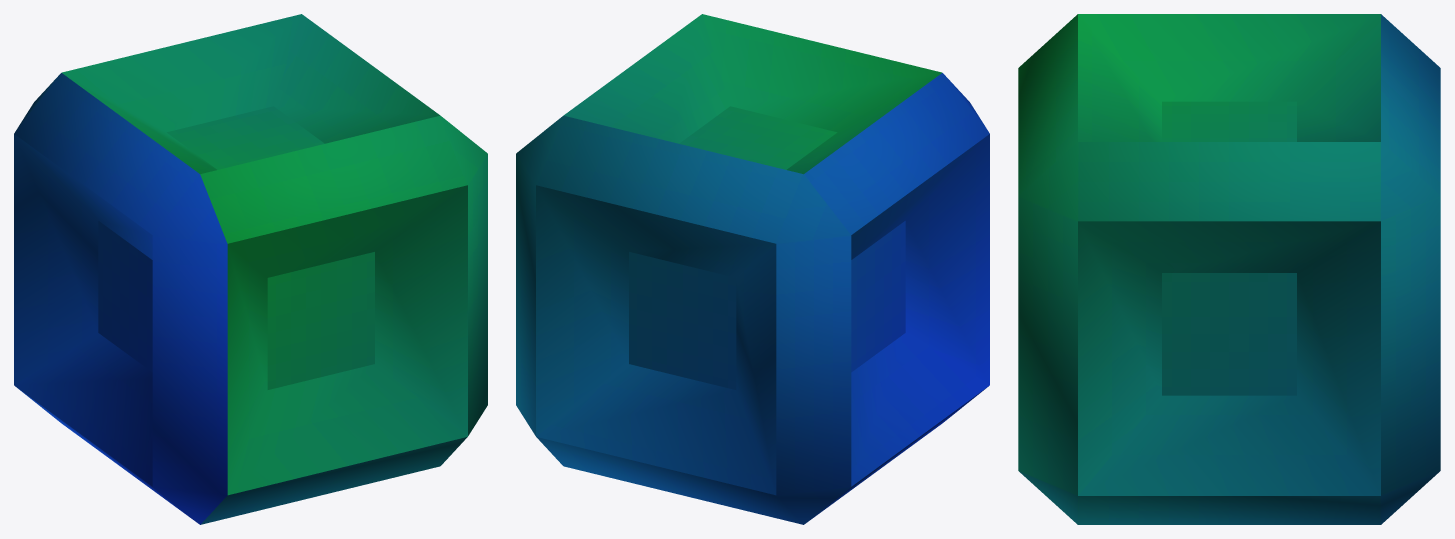
Rendered from block_obj.obj.
3 views of the same model, side by side, from view 1: azimuth 30°, elevation 25°; view 2: azimuth 150°, elevation 25°; view 3: azimuth 270°, elevation 25° (orthographic). The views are drawn at different scales.
Parts seen in each view (by area): view 1: Cube.001; view 2: Cube.001; view 3: Cube.001.
Boxes of the visible parts, bbox=[...] form: Cube.001: bbox=[14, 14, 487, 524]; Cube.001: bbox=[516, 14, 989, 524]; Cube.001: bbox=[1018, 14, 1440, 524].
Bounding box in the file's own units: 0.8784 × 0.8784 × 0.8784.
